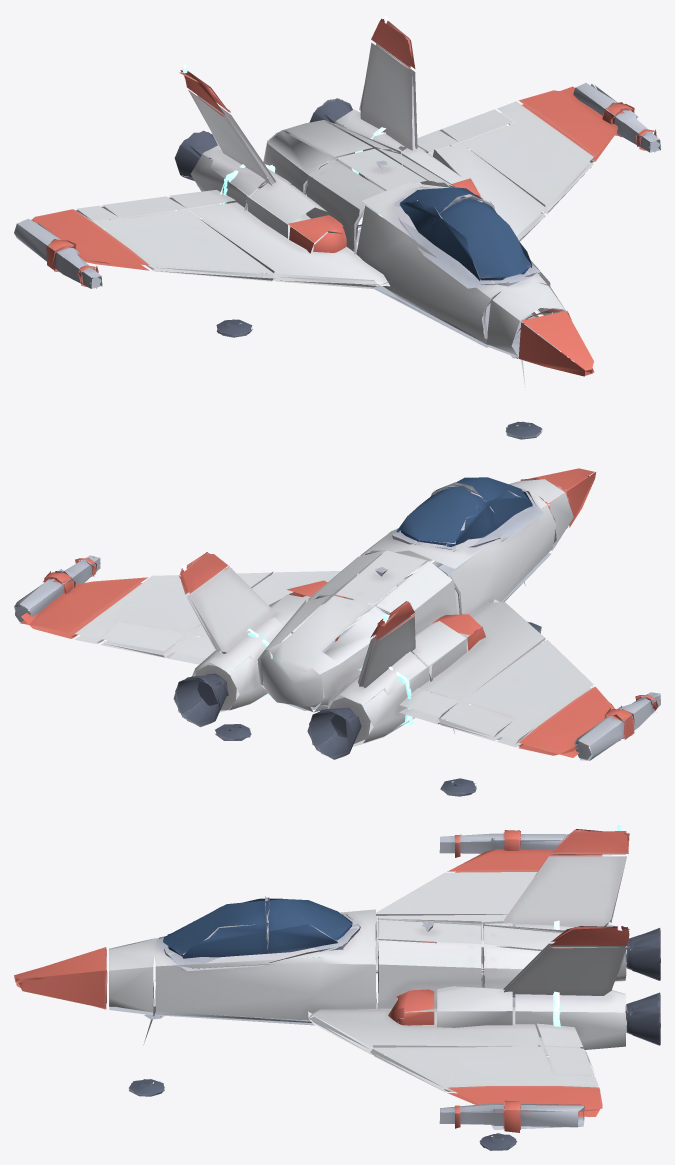
Rendered from RiftInterceptor.glb.
3 renders of one model, top to bottom at view 1: azimuth 30°, elevation 25°; view 2: azimuth 150°, elevation 25°; view 3: azimuth 270°, elevation 25°, orthographic.
Parts seen in each view (by area): view 1: space-fighter_body; view 2: space-fighter_body, space-fighter_engine_glow; view 3: space-fighter_body.
Boxes of the visible parts, bbox=[...] form: space-fighter_body: bbox=[14, 18, 660, 439]; space-fighter_body: bbox=[14, 468, 660, 796]; space-fighter_engine_glow: bbox=[180, 565, 412, 725]; space-fighter_body: bbox=[14, 829, 660, 1150].
Size of the model in its own units: 8.57 by 3.05 by 8.28.
Materials: 4 (1 with a texture image).
